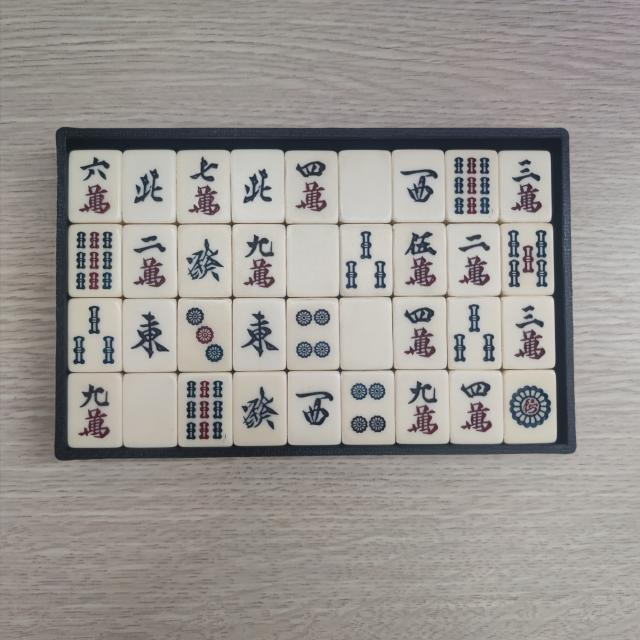hdg: (238, 379, 282, 442), (183, 232, 227, 294)
hdw: (292, 229, 336, 292), (128, 380, 172, 442), (344, 304, 388, 366), (346, 156, 388, 217)
hwe: (126, 304, 172, 366), (236, 305, 282, 367)
hwn: (235, 157, 278, 220), (128, 158, 170, 220)
hww: (293, 378, 337, 441), (398, 154, 441, 217)
sb3: (70, 302, 116, 367), (344, 226, 389, 292), (450, 304, 496, 368)
sb5: (506, 227, 550, 290)
sb9: (184, 378, 228, 444), (74, 230, 118, 294), (451, 154, 494, 216)
sc2: (128, 228, 170, 292), (452, 228, 495, 290)
sc3: (507, 302, 550, 366), (504, 155, 546, 217)
sc4: (454, 376, 498, 439), (401, 304, 444, 366), (290, 158, 332, 221)
sc5: (399, 228, 442, 292)
sc6: (74, 154, 118, 218)
sc7: (184, 154, 226, 220)
sc9: (72, 380, 116, 445), (402, 376, 445, 440), (239, 228, 282, 292)
sd1: (508, 375, 554, 438)
sd3: (184, 305, 229, 369)
sd4: (292, 304, 336, 366), (348, 378, 391, 440)
